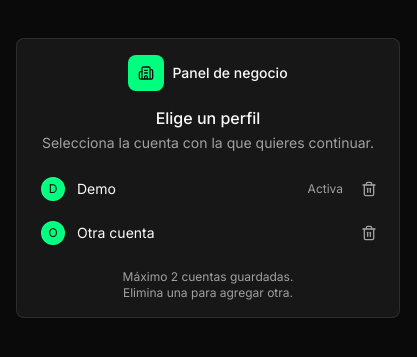
Test: ProfilePicker › shows an alert and does not navigate when the switch fails
This screenshot has width=417, height=357.
Click the text "Demo": (96, 188) [77,180,116,197]
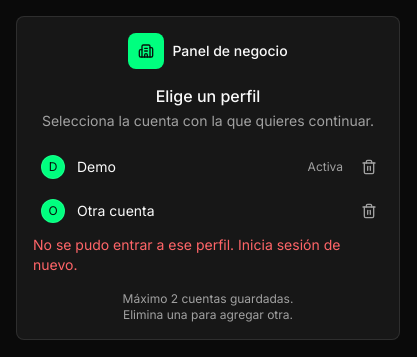
Result: the message shows "No se pudo entrar a ese perfil" at [33,236,340,273]
